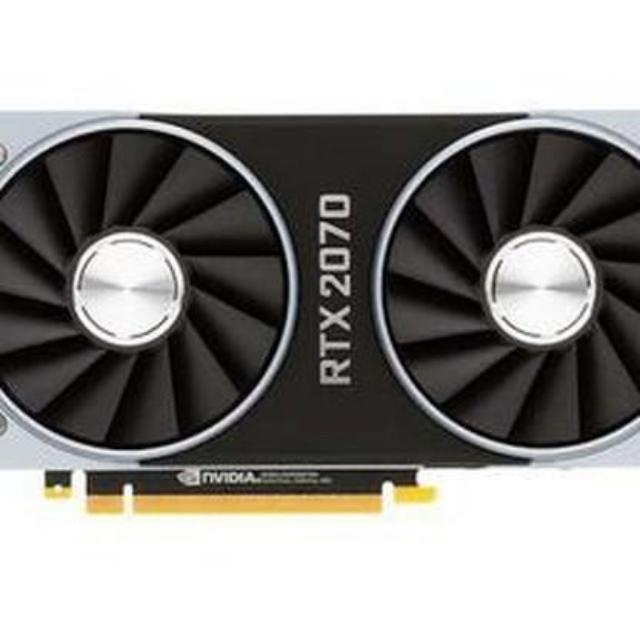GPU: (0, 103, 640, 526)
